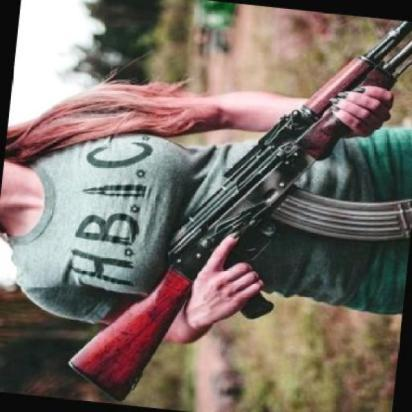Gun: (49, 0, 412, 412)
